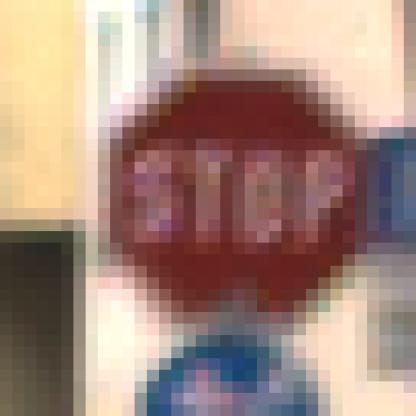Stop: (118, 68, 369, 326)
